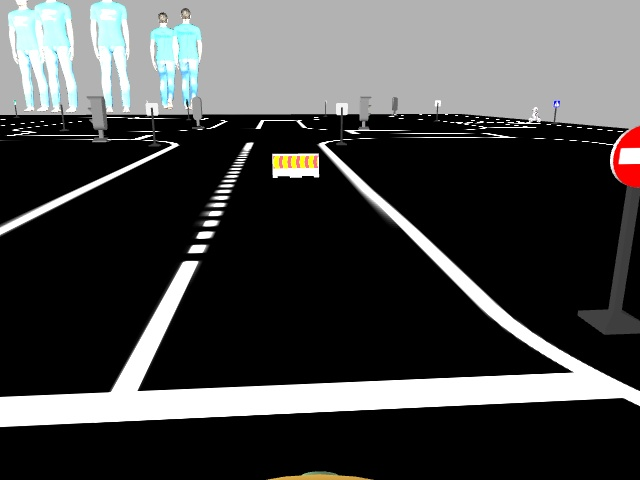ClosedRoadStand: (271, 154, 318, 177)
NoEntry: (610, 125, 639, 185)
